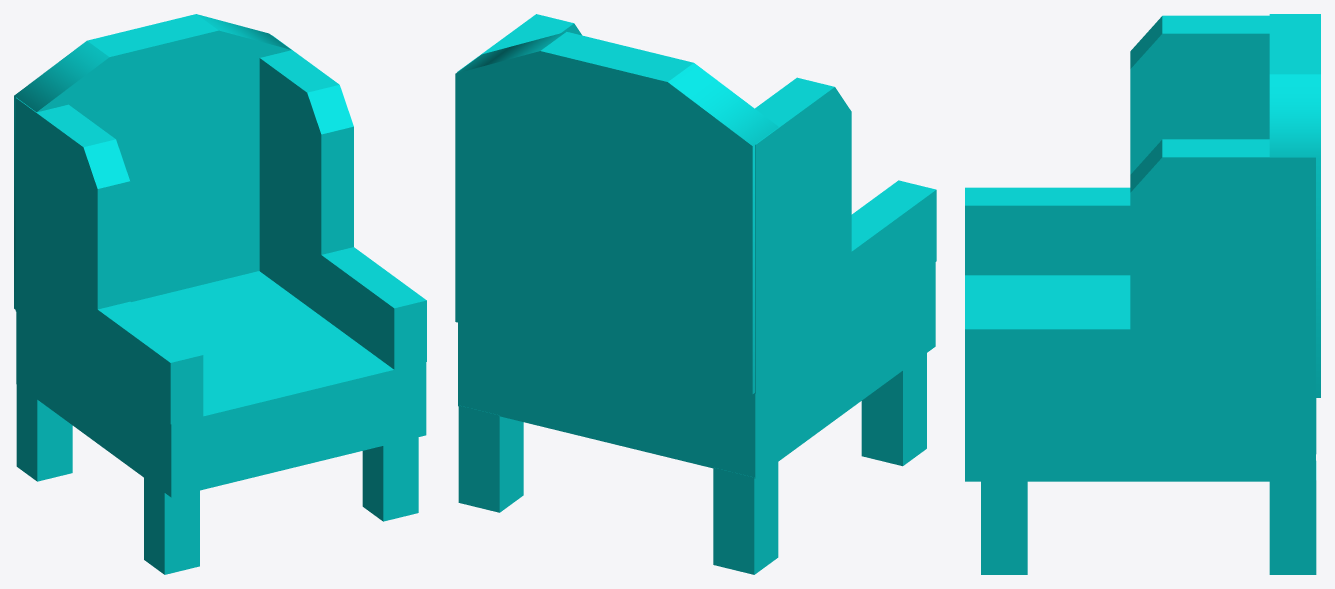
Rendered from SM_Prop_Gingerbread_Chair_01_Collision.fbx.
3 renders of one model, left to right at view 1: azimuth 30°, elevation 25°; view 2: azimuth 150°, elevation 25°; view 3: azimuth 270°, elevation 25°, orthographic. The views are drawn at different scales.
Visible parts, largest first — view 1: SM_Prop_Gingerbread_Chair_01_Collision; view 2: SM_Prop_Gingerbread_Chair_01_Collision; view 3: SM_Prop_Gingerbread_Chair_01_Collision.
Part boxes in pixels (left/top/right/bottom): SM_Prop_Gingerbread_Chair_01_Collision: left=14, top=14, right=426, bottom=574; SM_Prop_Gingerbread_Chair_01_Collision: left=455, top=14, right=936, bottom=574; SM_Prop_Gingerbread_Chair_01_Collision: left=965, top=14, right=1320, bottom=574.
Size of the model in its own units: 84.61 by 128 by 89.85.
